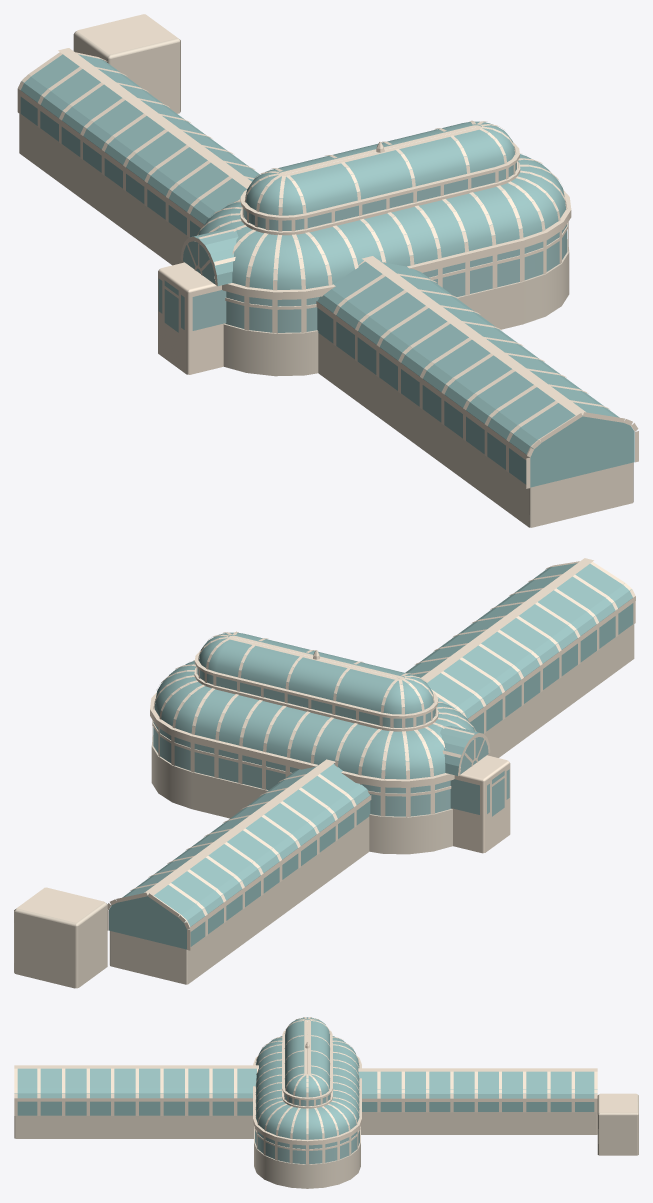
Rendered from nyc-bbg-palm-house.glb.
3 renders of one model, top to bottom at view 1: azimuth 30°, elevation 25°; view 2: azimuth 150°, elevation 25°; view 3: azimuth 270°, elevation 25°, orthographic. The views are drawn at different scales.
Parts seen in each view (by area): view 1: Palm House, Brooklyn Botanic Garden; view 2: Palm House, Brooklyn Botanic Garden; view 3: Palm House, Brooklyn Botanic Garden.
Part boxes in pixels (left/top/right/bottom): Palm House, Brooklyn Botanic Garden: left=17, top=14, right=638, bottom=527; Palm House, Brooklyn Botanic Garden: left=14, top=558, right=635, bottom=988; Palm House, Brooklyn Botanic Garden: left=14, top=1017, right=638, bottom=1188.
Bounding box in the file's own units: 34.46 × 14.6 × 84.66.
